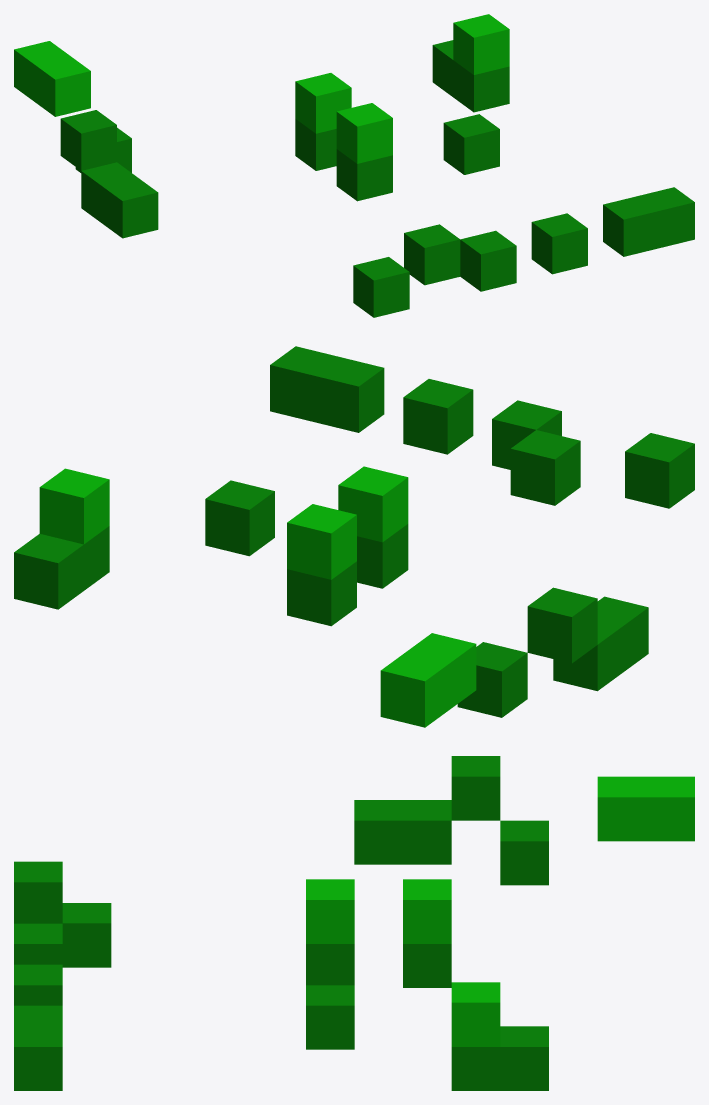
File: Splash1.obj
The picture shows the model from 3 angles, top to bottom: view 1: azimuth 30°, elevation 25°; view 2: azimuth 150°, elevation 25°; view 3: azimuth 270°, elevation 25°; orthographic projection. The views are drawn at different scales.
Size of the model in its own units: 1.2 by 0.2 by 1.4.
Materials: 1 (1 with a texture image).
